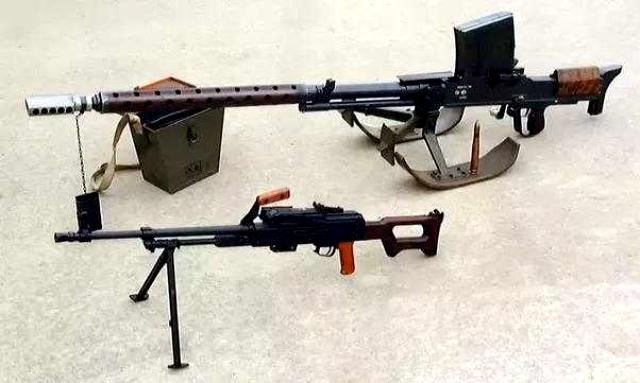rifle: (16, 16, 626, 158), (60, 181, 450, 329)
